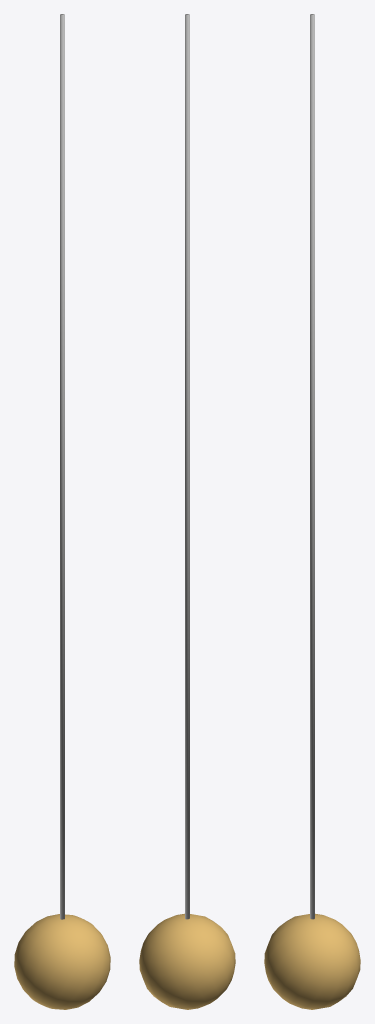
The model's file is pendulum_snake_p6.glb.
The picture shows the model from 3 angles, left to right: view 1: azimuth 30°, elevation 25°; view 2: azimuth 210°, elevation 25°; view 3: azimuth 330°, elevation 25°; orthographic projection.
Parts seen in each view (by area): view 1: Sphere6.001, Pendulum6.001; view 2: Sphere6.001, Pendulum6.001; view 3: Sphere6.001, Pendulum6.001.
Part boxes in pixels (<box>): Sphere6.001: <box>14,914,110,1009</box>; Pendulum6.001: <box>60,14,64,919</box>; Sphere6.001: <box>139,913,235,1009</box>; Pendulum6.001: <box>185,14,189,919</box>; Sphere6.001: <box>264,913,360,1009</box>; Pendulum6.001: <box>310,14,314,919</box>.
Bounding box in the file's own units: 0.04 × 0.455 × 0.04.
